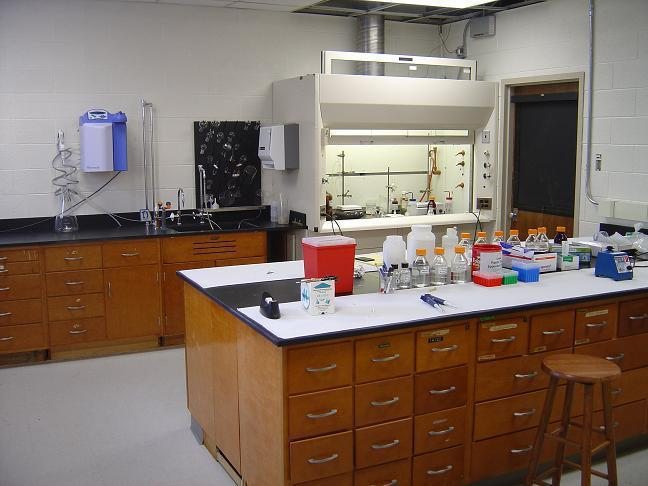Puerta: (504, 80, 577, 230)
